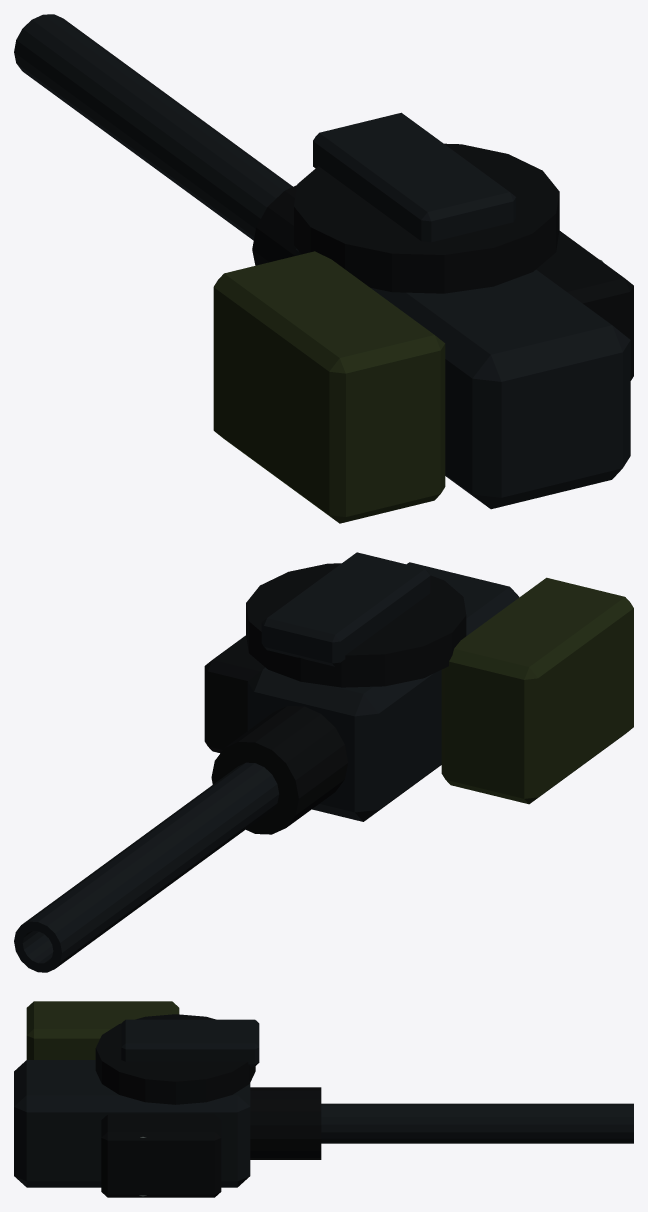
The model's file is Cannon30.obj.
The picture shows the model from 3 angles, top to bottom: view 1: azimuth 30°, elevation 25°; view 2: azimuth 150°, elevation 25°; view 3: azimuth 270°, elevation 25°; orthographic projection. The views are drawn at different scales.
Parts seen in each view (by area): view 1: Feed_cassette, Chain_gun_receiver, Yaw_turntable, Single_cannon_barrel, Mount_lug, Chain_drive_housing, Barrel_cooling_collar; view 2: Feed_cassette, Chain_gun_receiver, Single_cannon_barrel, Yaw_turntable, Mount_lug, Barrel_cooling_collar, Chain_drive_housing; view 3: Chain_gun_receiver, Single_cannon_barrel, Chain_drive_housing, Yaw_turntable, Mount_lug, Feed_cassette, Barrel_cooling_collar.
Boxes of the visible parts, bbox=[...] form: Feed_cassette: bbox=[213, 251, 445, 523]; Chain_gun_receiver: bbox=[295, 248, 630, 509]; Yaw_turntable: bbox=[294, 143, 559, 293]; Single_cannon_barrel: bbox=[14, 14, 292, 240]; Mount_lug: bbox=[313, 112, 516, 242]; Chain_drive_housing: bbox=[536, 230, 633, 380]; Barrel_cooling_collar: bbox=[252, 185, 296, 265]; Feed_cassette: bbox=[441, 577, 633, 804]; Chain_gun_receiver: bbox=[247, 562, 519, 821]; Single_cannon_barrel: bbox=[14, 762, 279, 972]; Yaw_turntable: bbox=[246, 563, 466, 687]; Mount_lug: bbox=[261, 552, 430, 666]; Barrel_cooling_collar: bbox=[211, 706, 347, 834]; Chain_drive_housing: bbox=[204, 635, 265, 753]; Chain_gun_receiver: bbox=[14, 1060, 250, 1187]; Single_cannon_barrel: bbox=[321, 1103, 633, 1143]; Chain_drive_housing: bbox=[101, 1114, 221, 1197]; Yaw_turntable: bbox=[95, 1014, 255, 1104]; Mount_lug: bbox=[121, 1019, 259, 1066]; Feed_cassette: bbox=[26, 1001, 179, 1059]; Barrel_cooling_collar: bbox=[250, 1087, 321, 1159].
Size of the model in its own units: 0.695 by 0.42 by 1.71.
